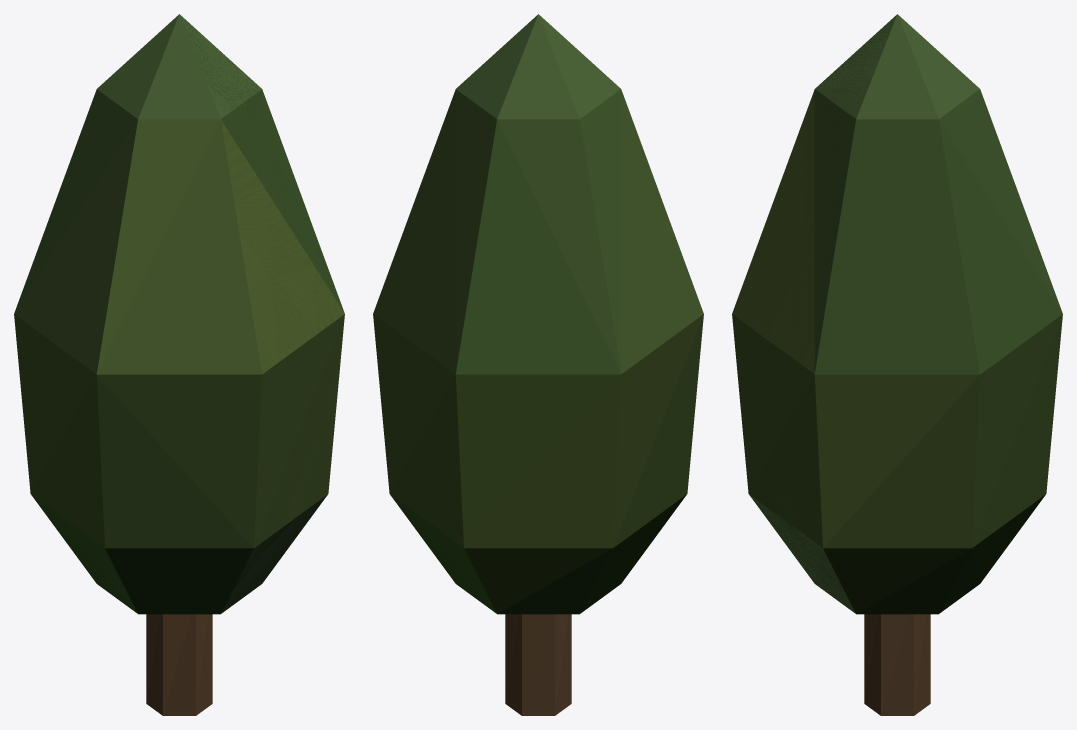
The model's file is Prop_Tree_Cedar_1.glb.
3 renders of one model, left to right at view 1: azimuth 30°, elevation 25°; view 2: azimuth 150°, elevation 25°; view 3: azimuth 270°, elevation 25°, orthographic.
Parts seen in each view (by area): view 1: object2, object1; view 2: object2, object1; view 3: object2, object1.
Boxes of the visible parts, x1,y1,x2,y2 form: object2: (14, 14, 344, 614); object1: (146, 614, 212, 715); object2: (373, 14, 703, 614); object1: (505, 614, 571, 715); object2: (732, 14, 1062, 614); object1: (864, 614, 930, 715).
Size of the model in its own units: 0.866 by 2.3 by 1.
